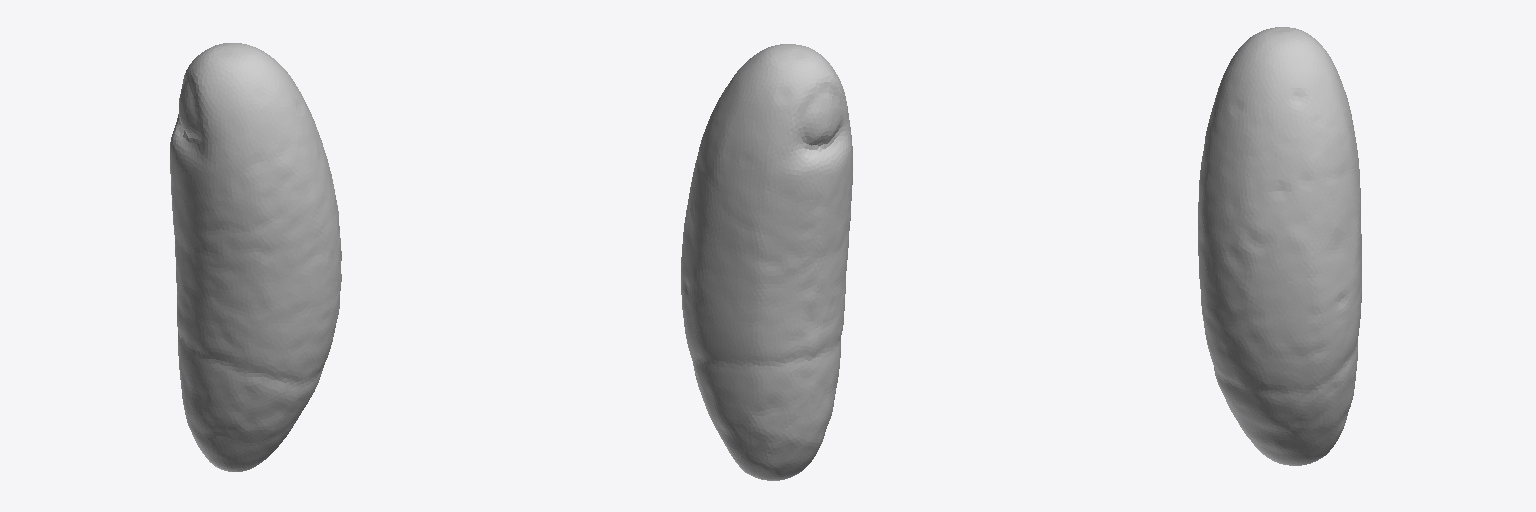
Rendered from Drosophila_reference_wrapepd_o3d.obj.
3 renders of one model, left to right at view 1: azimuth 30°, elevation 25°; view 2: azimuth 150°, elevation 25°; view 3: azimuth 270°, elevation 25°, orthographic.
Size of the model in its own units: 186 by 514 by 180.